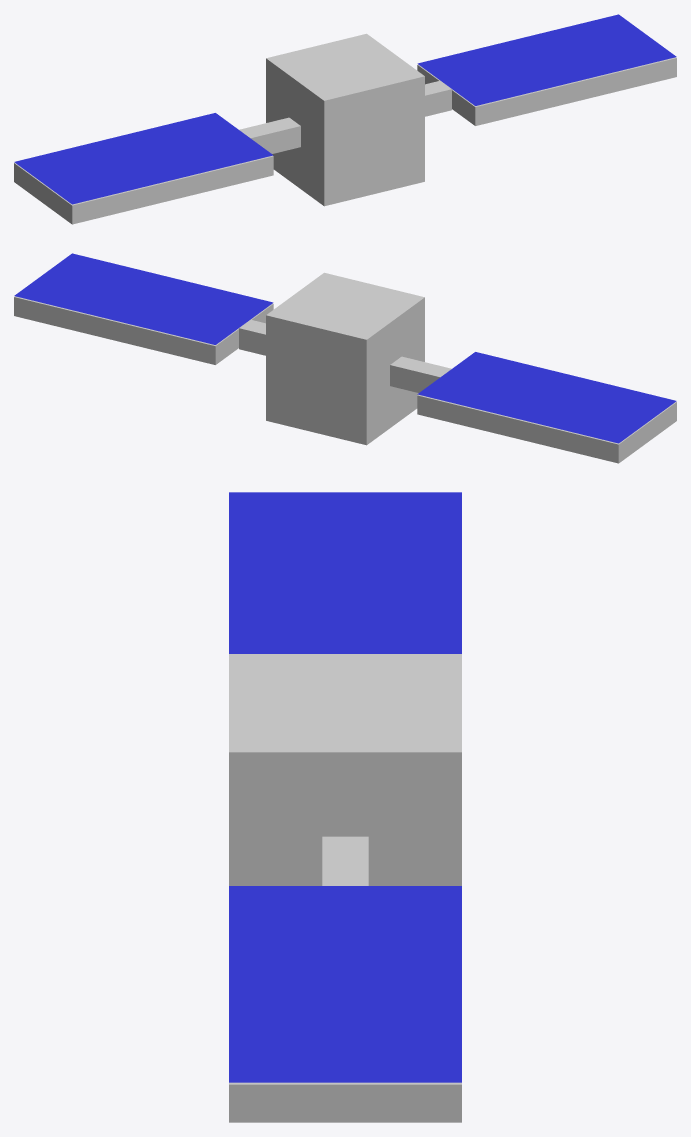
Rendered from SolarPowerTest (1).gltf.
The picture shows the model from 3 angles, top to bottom: view 1: azimuth 30°, elevation 25°; view 2: azimuth 150°, elevation 25°; view 3: azimuth 270°, elevation 25°; orthographic projection. The views are drawn at different scales.
Visible parts, largest first — view 1: BaseCube, PanelBacks, SolarPanel_B, SolarPanel_A, SolarPanel_C, SolarPanel_D; view 2: BaseCube, PanelBacks, SolarPanel_B, SolarPanel_A, SolarPanel_C, SolarPanel_D; view 3: BaseCube, SolarPanel_A, SolarPanel_B, SolarPanel_D, SolarPanel_C, PanelBacks.
Part boxes in pixels (x1,y1,x2,y2): BaseCube: (266,33,424,206); PanelBacks: (14,57,676,224); SolarPanel_B: (417,39,575,105); SolarPanel_A: (518,14,676,81); SolarPanel_C: (115,113,273,179); SolarPanel_D: (14,137,172,204); BaseCube: (266,272,424,445); PanelBacks: (14,296,676,463); SolarPanel_B: (115,278,273,344); SolarPanel_A: (14,253,172,320); SolarPanel_C: (417,352,575,418); SolarPanel_D: (518,376,676,443); BaseCube: (229,654,461,885); SolarPanel_A: (229,984,461,1082); SolarPanel_B: (229,886,461,984); SolarPanel_D: (229,492,461,590); SolarPanel_C: (229,590,461,653); PanelBacks: (229,836,461,1122).
Bounding box in the file's own units: 6 × 1 × 1.
